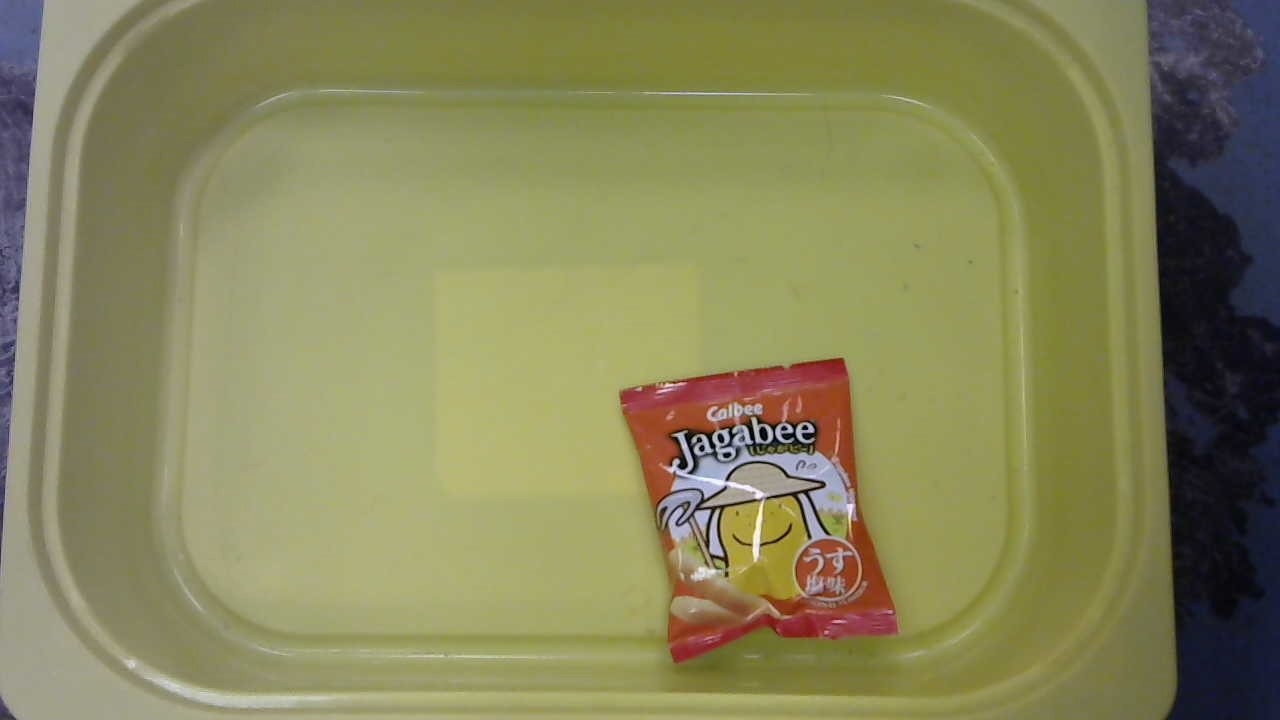JagabeeFarmer: (610, 356, 905, 667)
